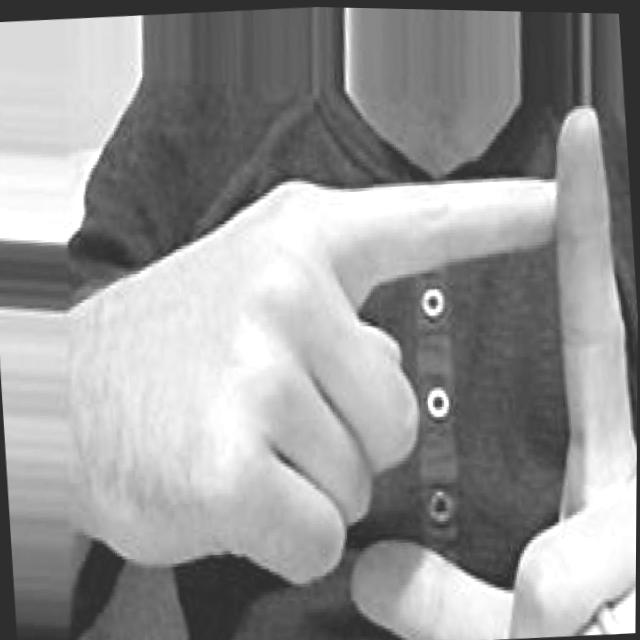J: (51, 80, 639, 640)
